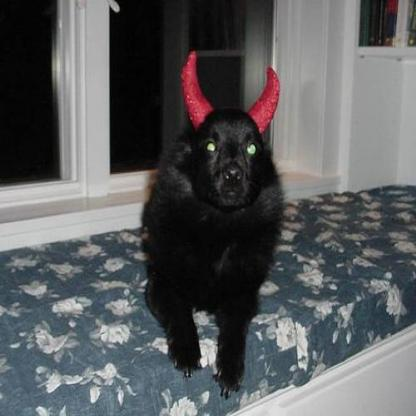schipperke: (138, 46, 287, 402)
